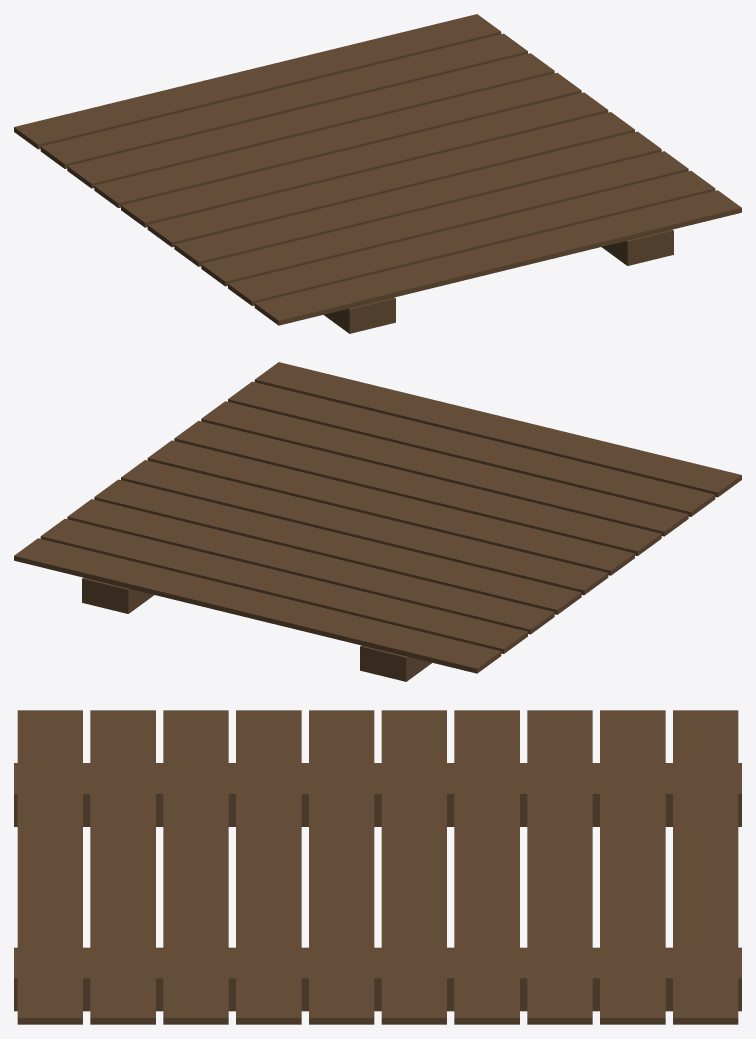
Rendered from Playground Platform.fbx.
3 renders of one model, top to bottom at view 1: azimuth 30°, elevation 25°; view 2: azimuth 150°, elevation 25°; view 3: azimuth 270°, elevation 25°, orthographic. The views are drawn at different scales.
Visible parts, largest first — view 1: Playground Platform; view 2: Playground Platform; view 3: Playground Platform.
Boxes of the visible parts, x1,y1,x2,y2 form: Playground Platform: [14, 14, 741, 333]; Playground Platform: [14, 362, 741, 681]; Playground Platform: [14, 710, 741, 1024].
Bounding box in the file's own units: 1000 × 60 × 1000.
